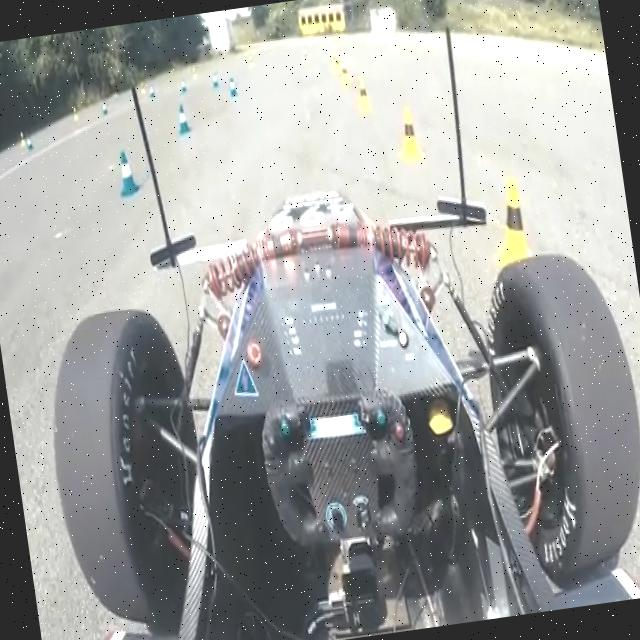blue_cone: (114, 148, 142, 200), (174, 101, 193, 138)
yellow_cone: (484, 174, 538, 282), (391, 104, 427, 164), (354, 73, 374, 112)
